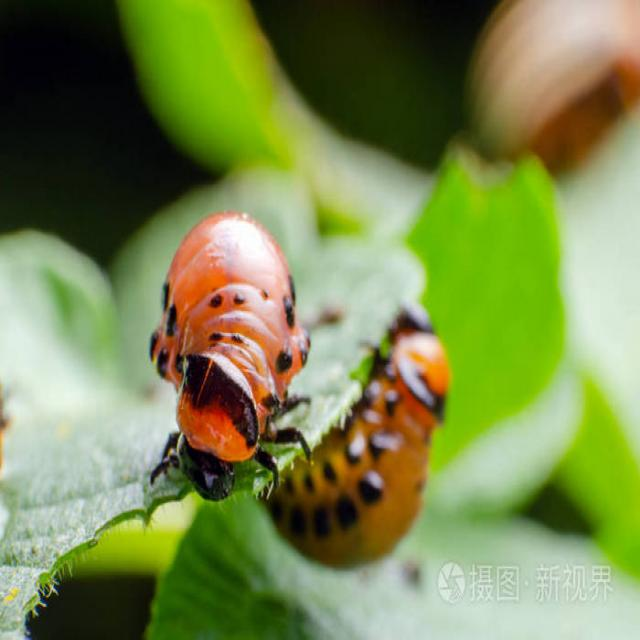ShuCaiHuaBanChong-Larva-: (264, 302, 470, 580), (153, 192, 320, 503)
